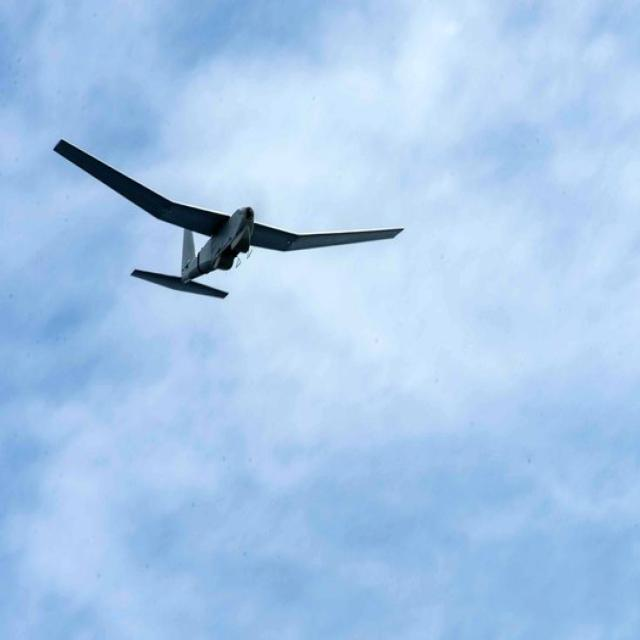iha: (53, 138, 405, 307)
